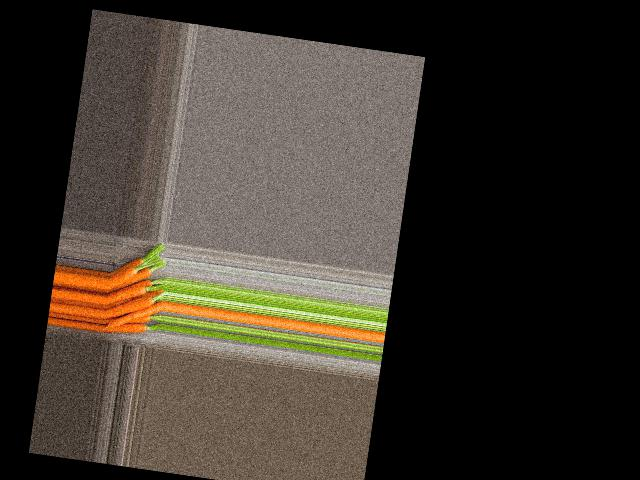carrot: (109, 262, 160, 293)
